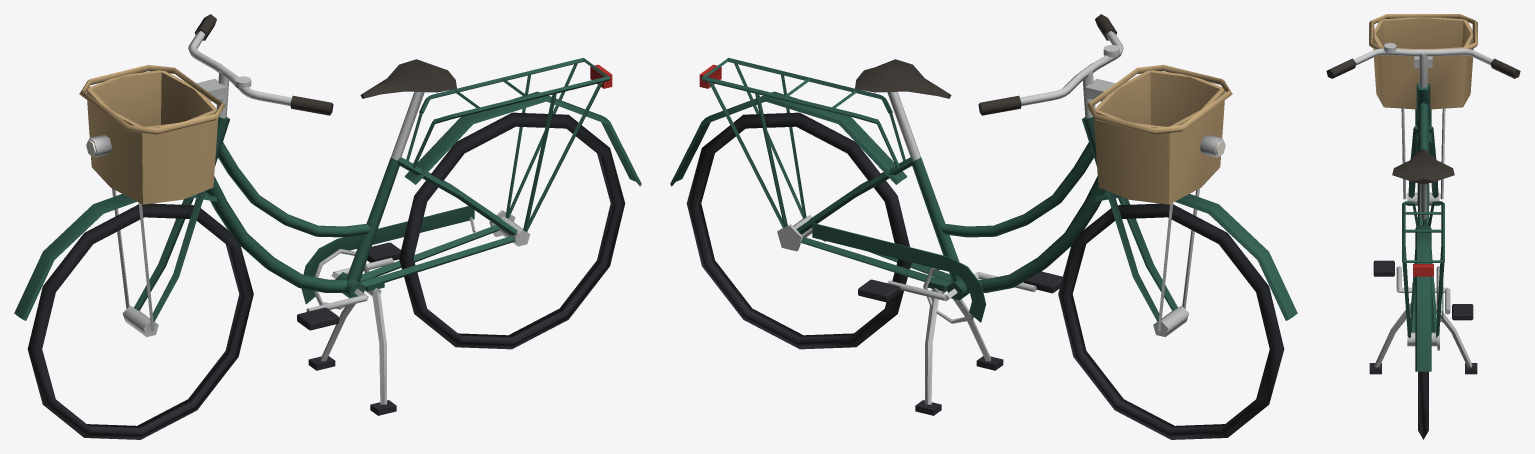
File: bicycle.far.glb
The picture shows the model from 3 angles, left to right: view 1: azimuth 30°, elevation 25°; view 2: azimuth 150°, elevation 25°; view 3: azimuth 270°, elevation 25°; orthographic projection. The views are drawn at different scales.
Parts seen in each view (by area): view 1: bicycle; view 2: bicycle; view 3: bicycle.
Part boxes in pixels (x1=…): bicycle: x1=14, y1=14, x2=641, y2=439; bicycle: x1=670, y1=14, x2=1297, y2=439; bicycle: x1=1326, y1=14, x2=1520, y2=439.
Bounding box in the file's own units: 1.84 × 1.01 × 0.644.
